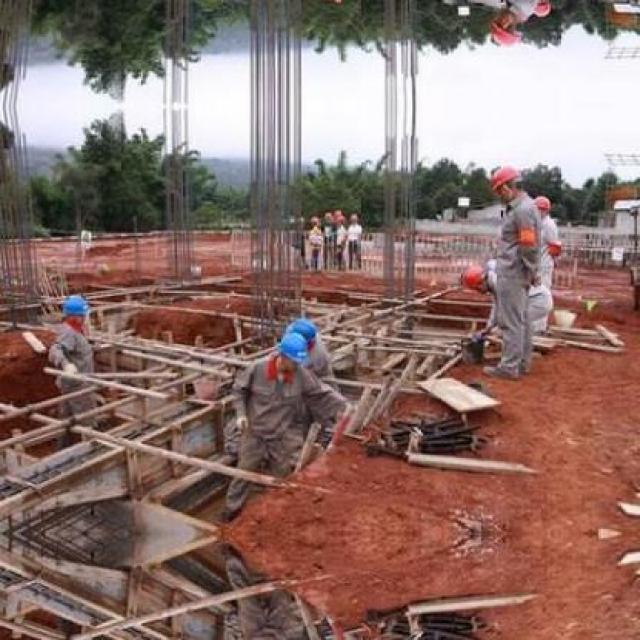helmet: (488, 164, 524, 201), (488, 11, 524, 48), (277, 333, 308, 366), (62, 290, 88, 325), (286, 318, 317, 347), (458, 263, 487, 288), (531, 192, 549, 217), (531, 0, 551, 22), (308, 214, 320, 226), (322, 209, 333, 221), (349, 211, 358, 222), (336, 212, 344, 224), (321, 0, 334, 5)
